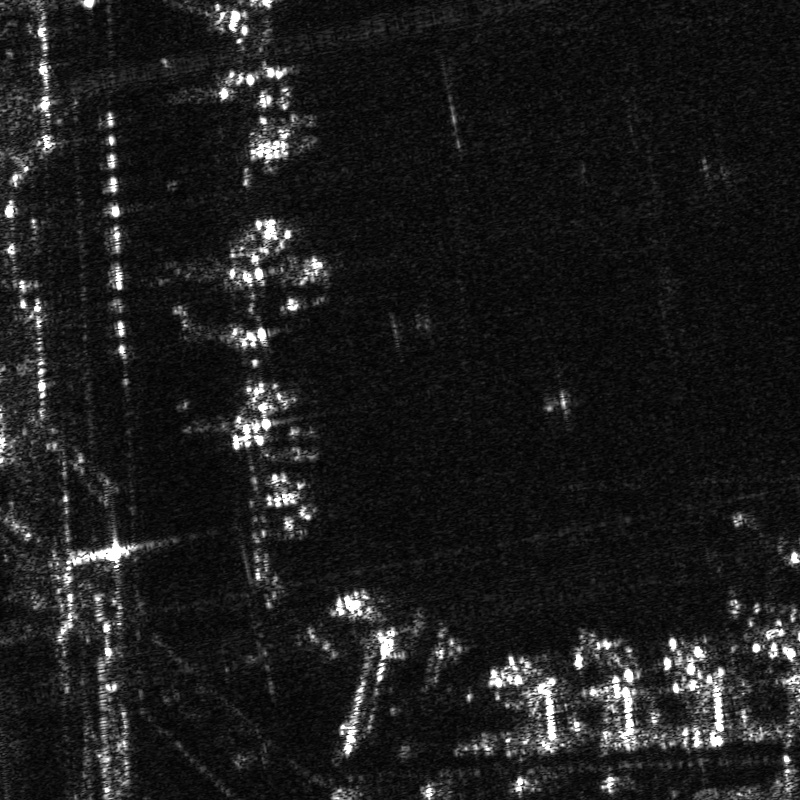A320/321: (224, 207, 331, 316), (214, 374, 324, 464)
